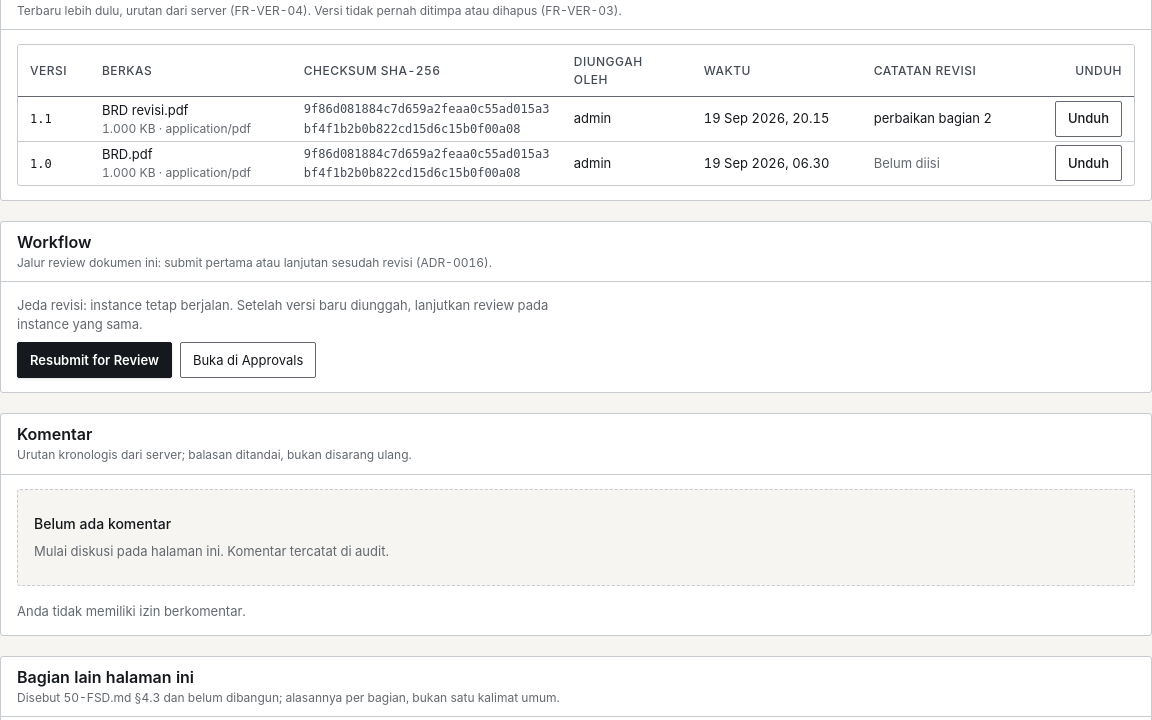
Scenario: alur review dari halaman detail dokumen › menawarkan resubmit langsung saat revision_required dengan instance terikat
(page scrolled)
Click the button "Resubmit for Review".
click(94, 360)  # box [17,342,172,378]
(page scrolled)
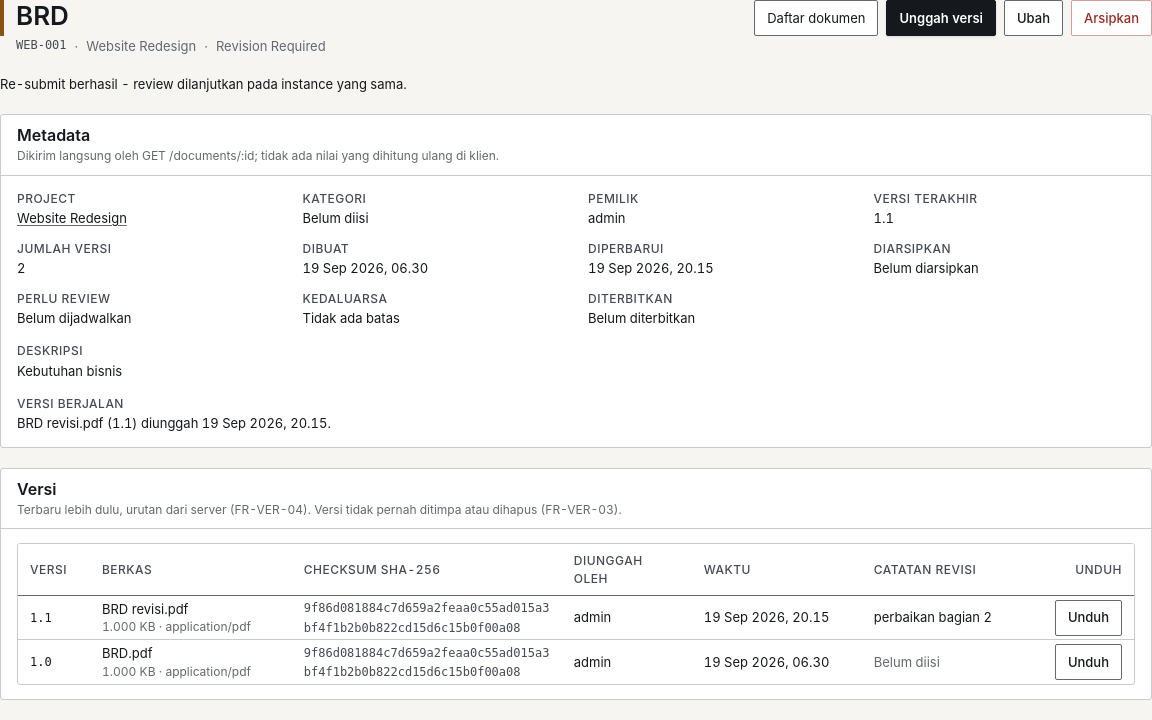
Now the text "Re-submit berhasil - review dilanjutkan pada instance yang sama." is shown, box [0,76,407,92]
